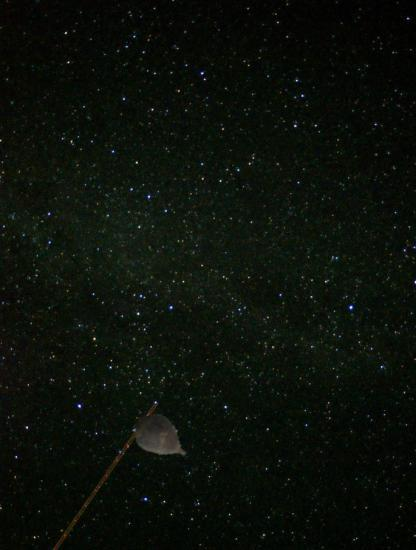Beetroot: (130, 408, 193, 471)
